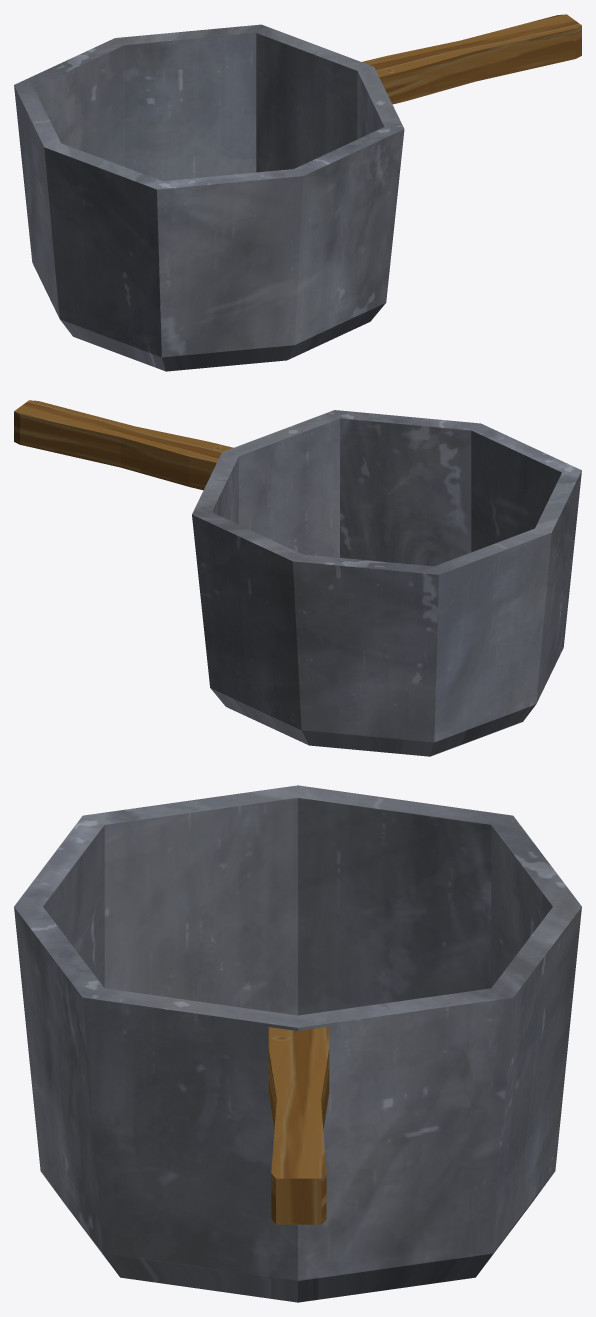
File: large_pot.fbx
3 views of the same model, one above another, from view 1: azimuth 30°, elevation 25°; view 2: azimuth 150°, elevation 25°; view 3: azimuth 270°, elevation 25° (orthographic). The views are drawn at different scales.
Parts seen in each view (by area): view 1: pots and pans; view 2: pots and pans; view 3: pots and pans.
Boxes of the visible parts, x1,y1,x2,y2 form: pots and pans: (14, 14, 581, 371); pots and pans: (14, 400, 581, 756); pots and pans: (14, 785, 581, 1302).
Size of the model in its own units: 218 by 77.23 by 134.
